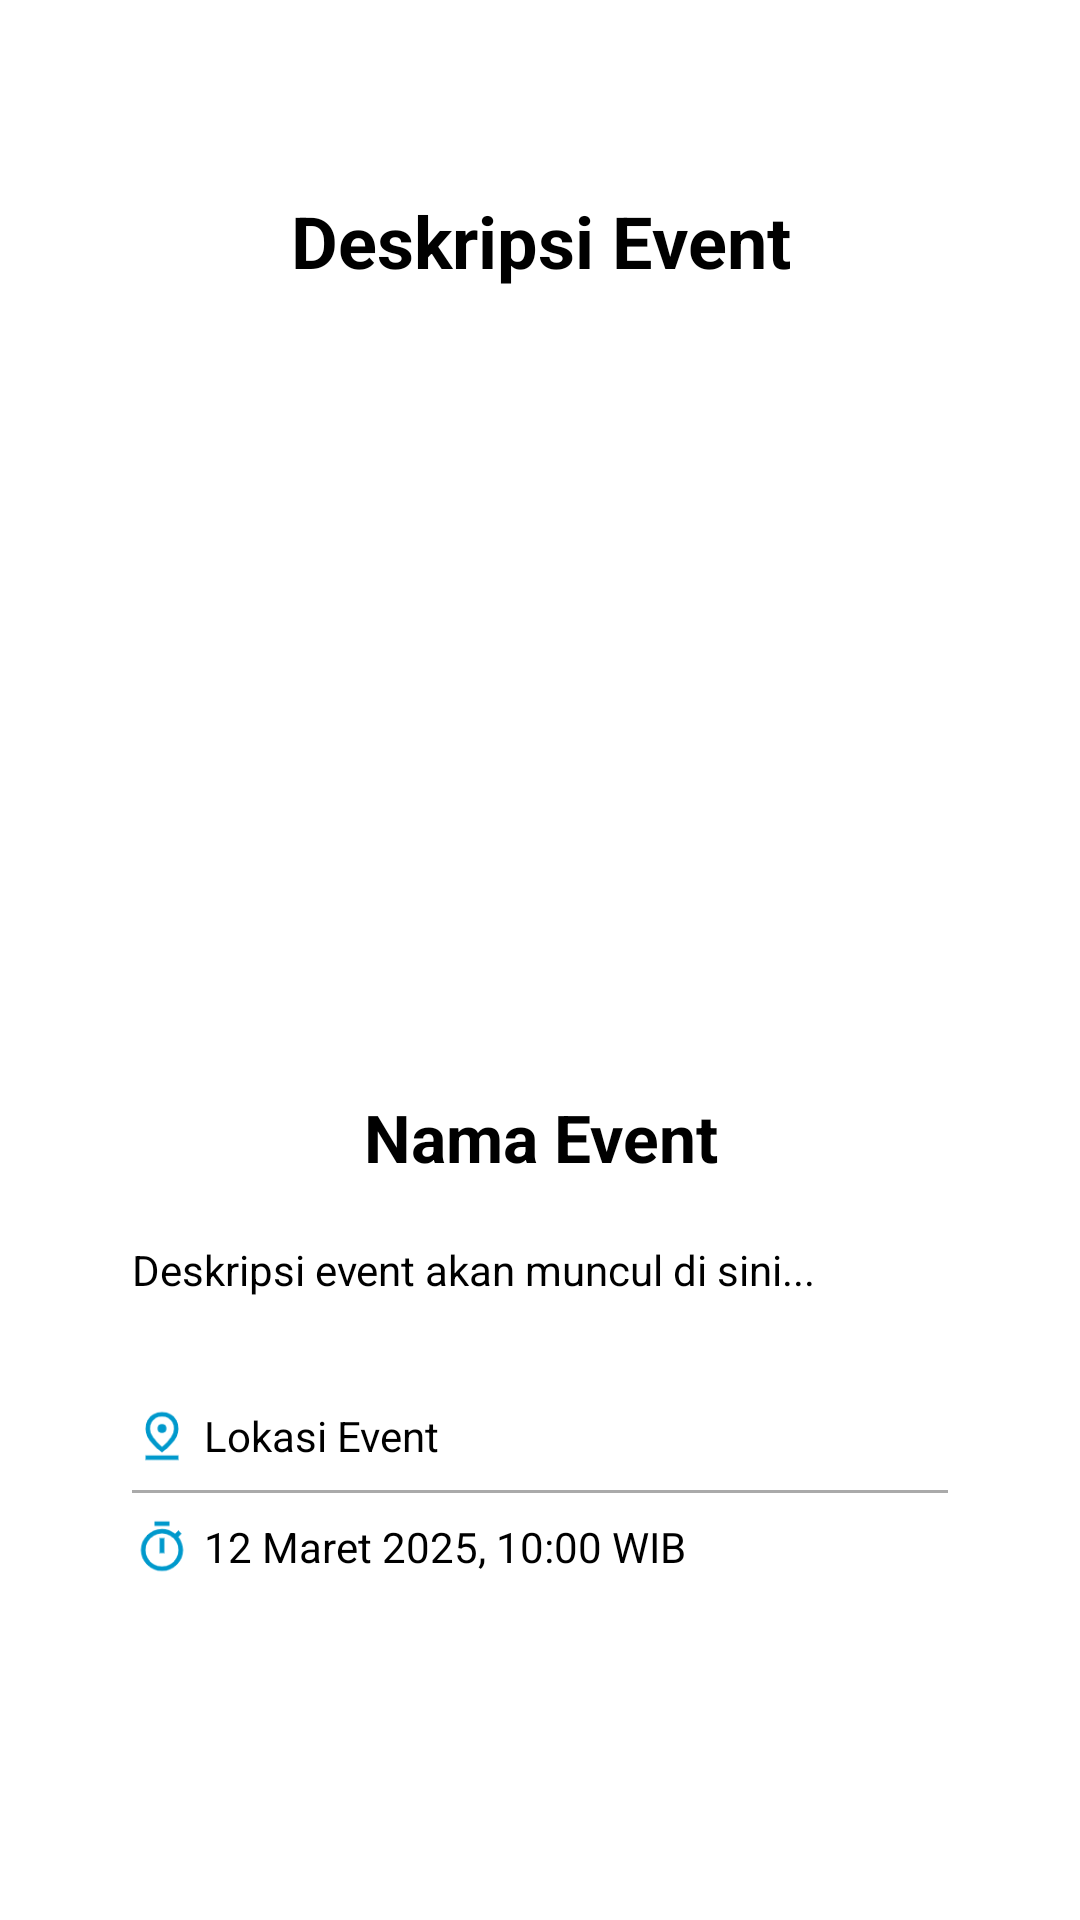

Screen size 1080w x 1920h. Icon name, then its center in pixels as [x,y]:
timer: [162,1546]
